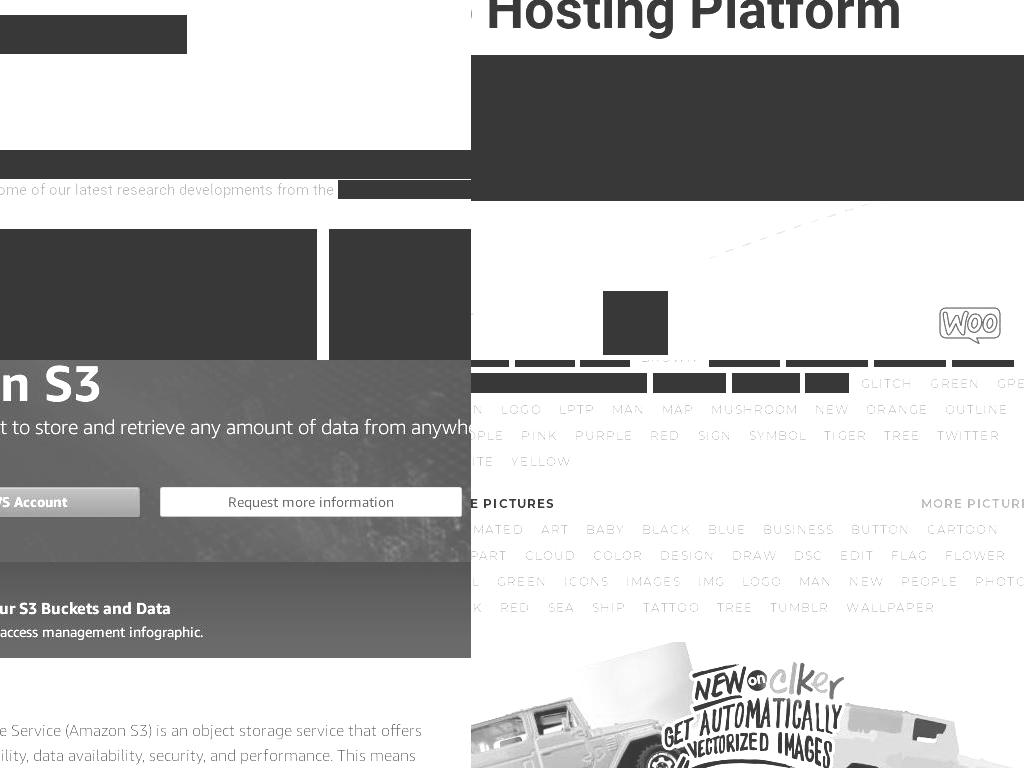button: (0, 562, 471, 658), (0, 229, 317, 360), (329, 229, 471, 360), (160, 487, 462, 517), (0, 15, 187, 54), (0, 487, 141, 517), (471, 373, 647, 393), (841, 597, 941, 617), (706, 399, 804, 419), (757, 519, 839, 539), (922, 519, 1004, 539), (939, 399, 1014, 419), (653, 373, 726, 393), (861, 399, 934, 419), (932, 425, 1005, 445), (940, 545, 1013, 565), (506, 451, 577, 471), (845, 519, 916, 539), (764, 597, 835, 617), (569, 425, 639, 445), (743, 425, 813, 445), (895, 571, 964, 591), (732, 373, 800, 393), (638, 597, 706, 617), (655, 545, 721, 565), (621, 571, 687, 591), (855, 373, 919, 393), (519, 545, 581, 565), (587, 545, 649, 565), (925, 373, 986, 393), (492, 571, 553, 591), (637, 519, 697, 539), (471, 519, 529, 539), (726, 545, 783, 565), (558, 571, 615, 591), (819, 425, 873, 445), (970, 571, 1024, 591), (496, 399, 548, 419), (736, 571, 788, 591), (580, 519, 631, 539), (702, 519, 751, 539), (885, 545, 934, 565), (516, 425, 564, 445), (878, 425, 926, 445), (553, 399, 600, 419), (711, 597, 758, 617), (844, 571, 890, 591), (586, 597, 632, 617), (606, 399, 651, 419), (810, 399, 855, 419), (692, 425, 737, 445), (835, 545, 880, 565), (805, 373, 849, 393), (794, 571, 838, 591), (657, 399, 700, 419), (645, 425, 687, 445), (471, 545, 513, 565), (495, 597, 537, 617), (789, 545, 829, 565), (471, 425, 510, 445), (535, 519, 574, 539), (692, 571, 730, 591), (542, 597, 580, 617), (991, 373, 1024, 393), (471, 451, 500, 471), (786, 360, 868, 367), (874, 360, 946, 367), (709, 360, 780, 367), (636, 360, 704, 367), (952, 360, 1014, 367), (515, 360, 575, 367), (471, 399, 490, 419), (471, 597, 489, 617), (580, 360, 630, 367), (471, 571, 486, 591)
heading: (471, 0, 1024, 45), (0, 360, 471, 412), (471, 55, 1024, 91), (0, 412, 471, 442), (0, 596, 445, 621), (471, 493, 556, 513)
image: (471, 637, 1024, 768), (0, 229, 317, 360), (329, 229, 471, 360), (603, 291, 668, 355), (937, 291, 1002, 355)
link: (338, 180, 440, 199), (920, 495, 1024, 511)
text: (471, 91, 1024, 201), (0, 283, 282, 360), (0, 150, 471, 179), (0, 621, 445, 643), (0, 577, 445, 596), (161, 488, 461, 516), (0, 180, 339, 199), (0, 488, 140, 516), (0, 263, 282, 275), (439, 180, 471, 199)
